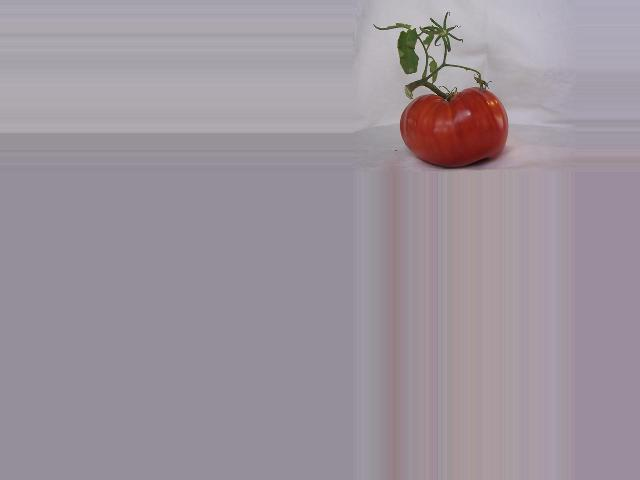tomato: (399, 87, 508, 168)
